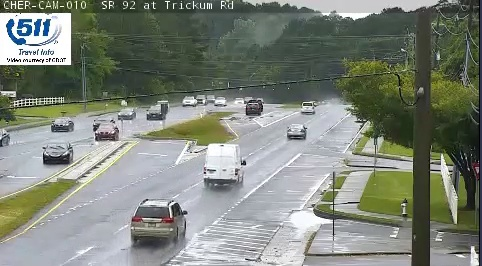car: (130, 200, 186, 238), (288, 124, 306, 137), (302, 102, 314, 113)
van: (204, 144, 243, 185)
